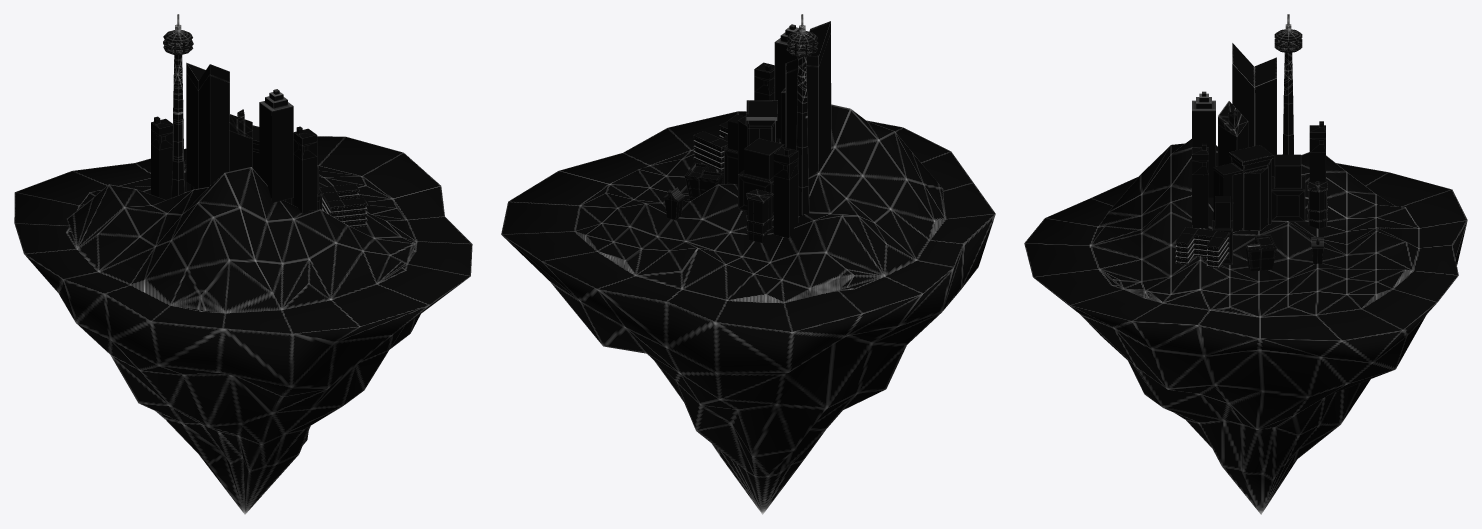
Rendered from city_test.obj.
3 views of the same model, side by side, from view 1: azimuth 30°, elevation 25°; view 2: azimuth 150°, elevation 25°; view 3: azimuth 270°, elevation 25° (orthographic). The views are drawn at different scales.
Visible parts, largest first — view 1: polySurface8; view 2: polySurface8; view 3: polySurface8.
Part boxes in pixels (x1,y1,x2,y2): polySurface8: (14,14,472,514); polySurface8: (501,14,995,514); polySurface8: (1024,14,1467,514).
Size of the model in its own units: 38.66 by 47.77 by 40.31.
